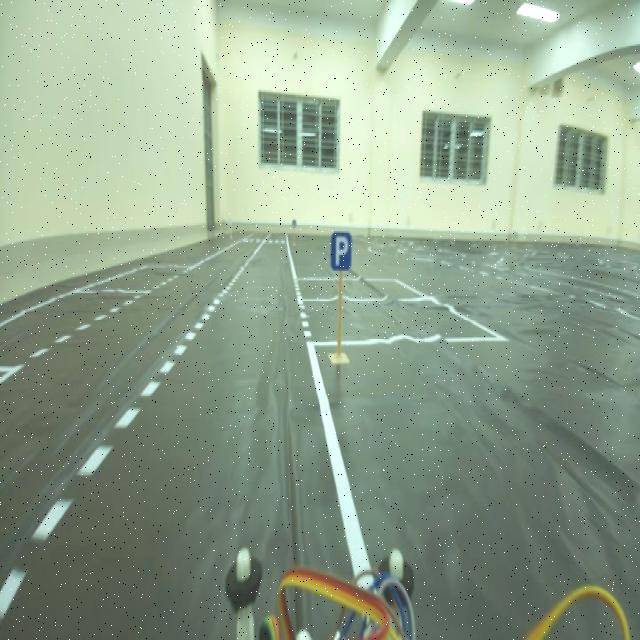parking: (328, 226, 356, 280)
